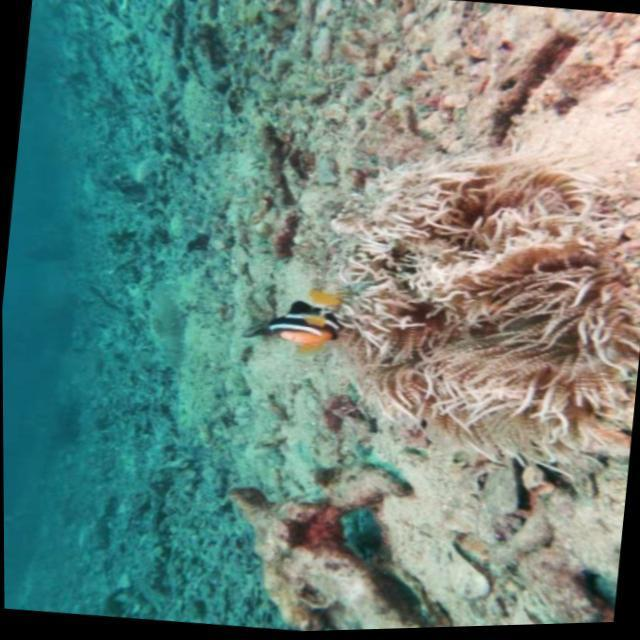Dead Coral: (170, 448, 450, 636), (291, 0, 528, 154)
